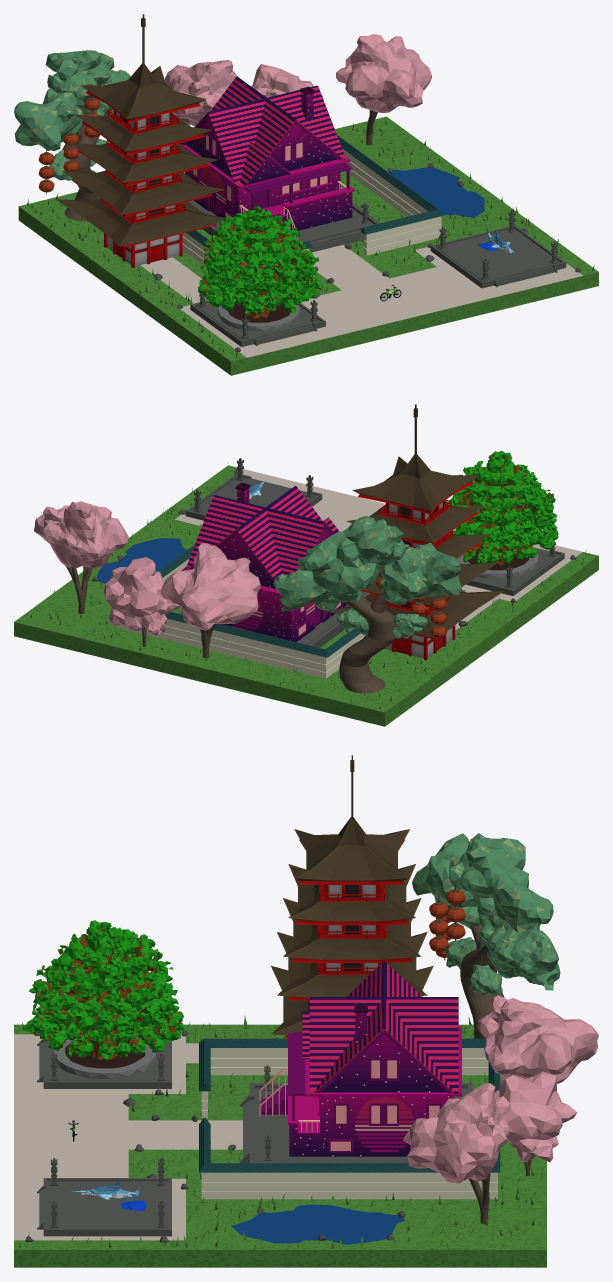
The picture shows the model from 3 angles, top to bottom: view 1: azimuth 30°, elevation 25°; view 2: azimuth 150°, elevation 25°; view 3: azimuth 270°, elevation 25°; orthographic projection. The views are drawn at different scales.
Parts seen in each view (by area): view 1: Cube.005, Cube.156, OBJRANDOM_CEIBA; view 2: Cube.005, Cube.156, OBJRANDOM_CEIBA; view 3: Cube.005, Cube.156, OBJRANDOM_CEIBA, ANIMAL_PEZ_ESPADA.
Boxes of the visible parts, x1=… form: Cube.005: x1=14, y1=14, x2=598, y2=375; Cube.156: x1=179, y1=76, x2=354, y2=239; OBJRANDOM_CEIBA: x1=198, y1=205, x2=322, y2=331; Cube.005: x1=14, y1=404, x2=598, y2=726; Cube.156: x1=181, y1=482, x2=347, y2=642; OBJRANDOM_CEIBA: x1=445, y1=451, x2=558, y2=578; Cube.005: x1=14, y1=755, x2=598, y2=1267; Cube.156: x1=259, y1=961, x2=461, y2=1156; OBJRANDOM_CEIBA: x1=23, y1=920, x2=184, y2=1078; ANIMAL_PEZ_ESPADA: x1=71, y1=1180, x2=146, y2=1210.
Bounding box in the file's own units: 4528 × 2842 × 4389.
Materials: 40 (7 with a texture image).
